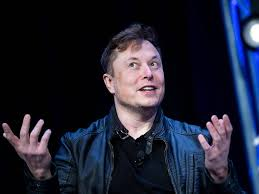without_mask: (104, 41, 166, 113)
